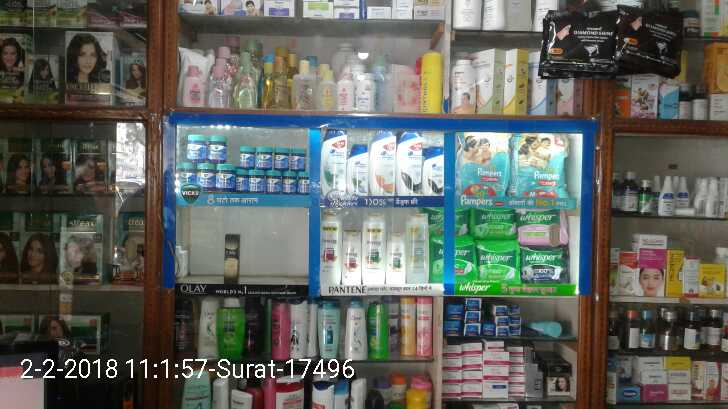beauty: (320, 127, 350, 193), (367, 128, 394, 197), (319, 214, 341, 295), (365, 213, 388, 288), (398, 130, 423, 196), (422, 143, 449, 197), (345, 138, 370, 193), (225, 230, 241, 283)
pharmacy: (177, 129, 310, 196), (510, 135, 576, 206), (458, 126, 510, 207), (473, 239, 523, 282), (515, 209, 574, 245), (518, 248, 571, 281), (469, 206, 514, 238)
